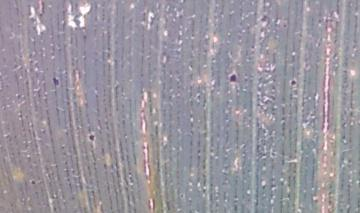tarspot: (226, 69, 240, 86), (51, 74, 61, 88), (29, 177, 39, 190), (289, 76, 298, 90), (87, 132, 97, 144)
